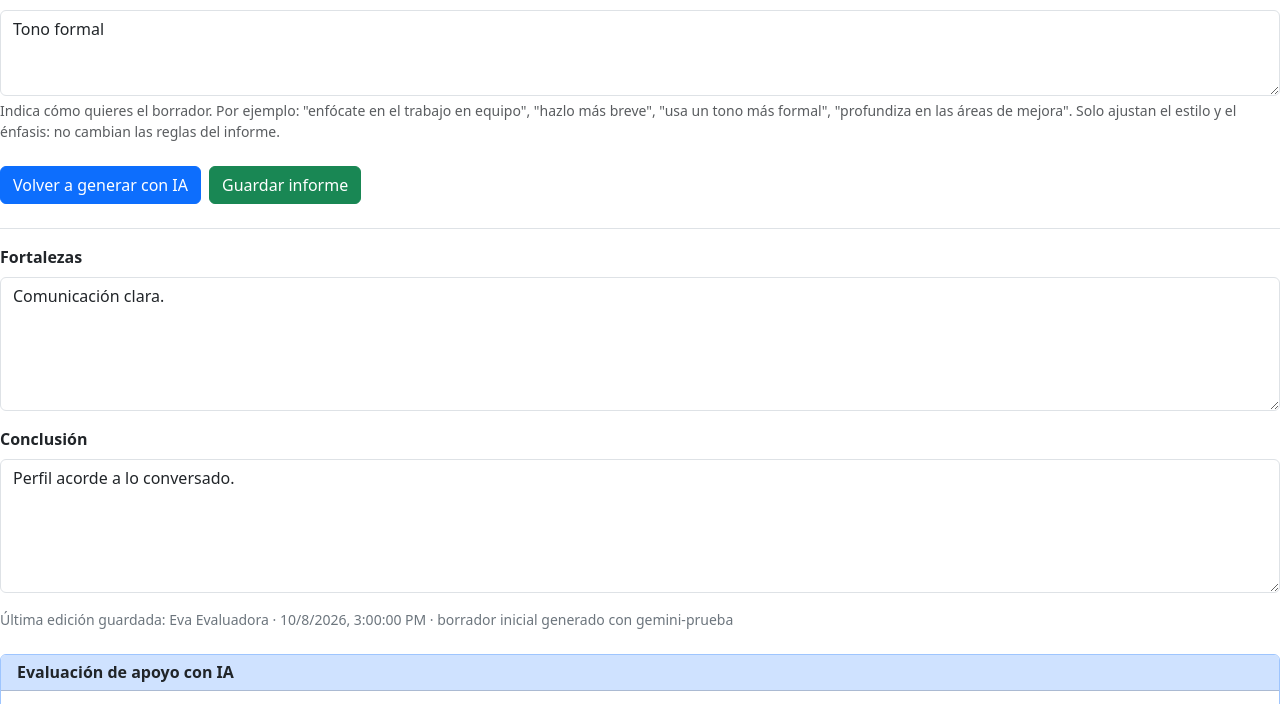
Test case: InformePsicolaboral › confirmar y guardar › guarda las secciones editadas por el evaluador
The width and height of the screenshot is (1280, 704).
(page scrolled)
Step 1. Replace the text in the text box labelled "Fortalezas" with "Editado" → (640,344), box [0,277,1279,411]
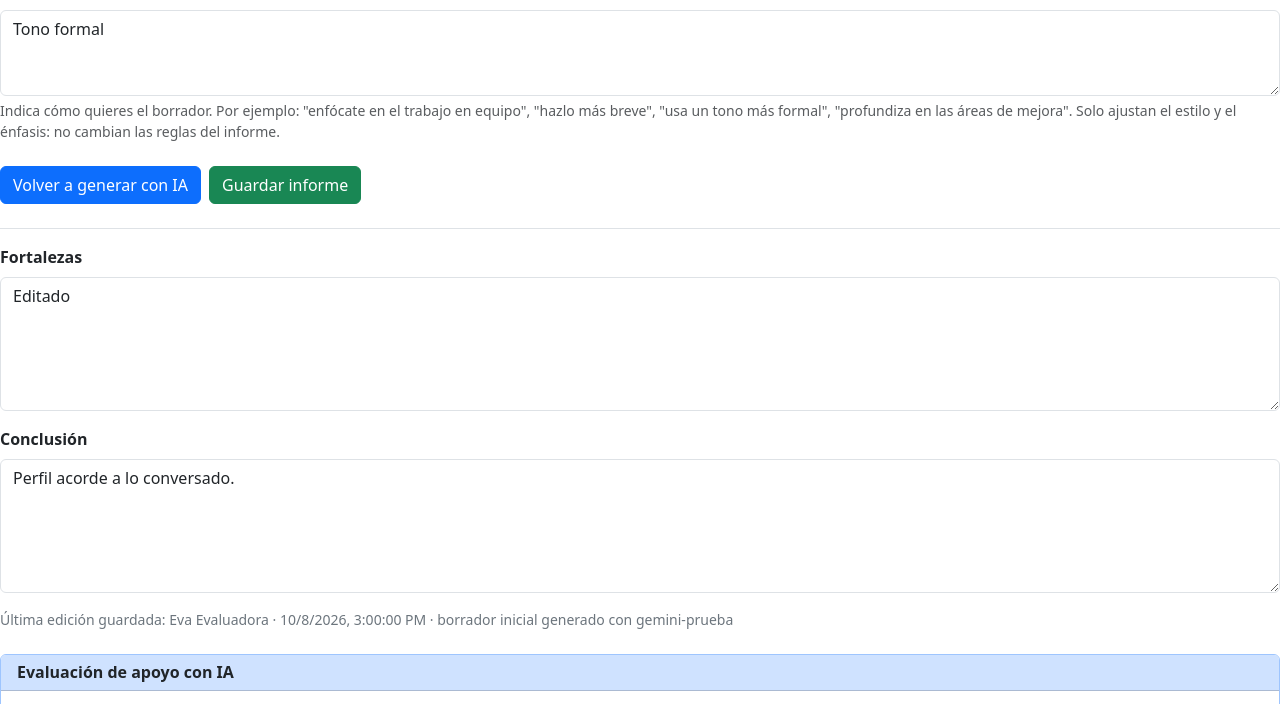
Step 2. Click the button "Guardar informe" → (285,185), box [209,166,361,204]
(page scrolled)
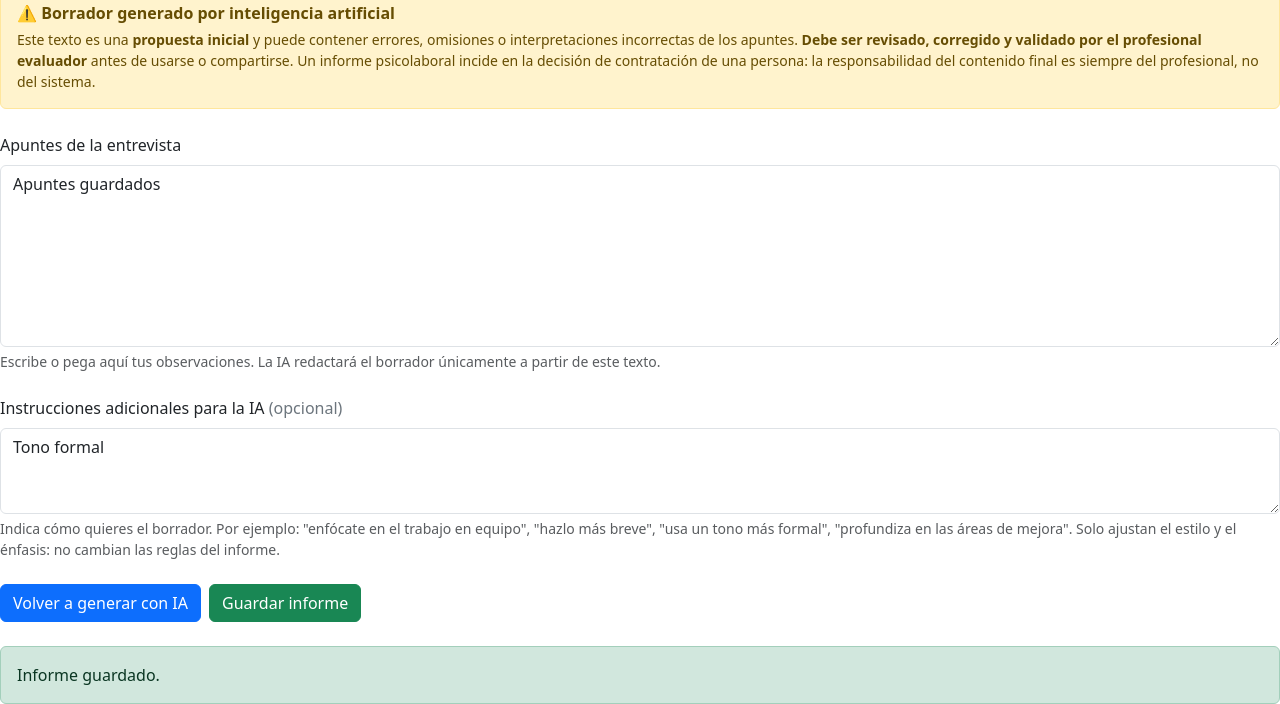
Expected: the text "Informe guardado." is shown, [0,646,1279,703]
